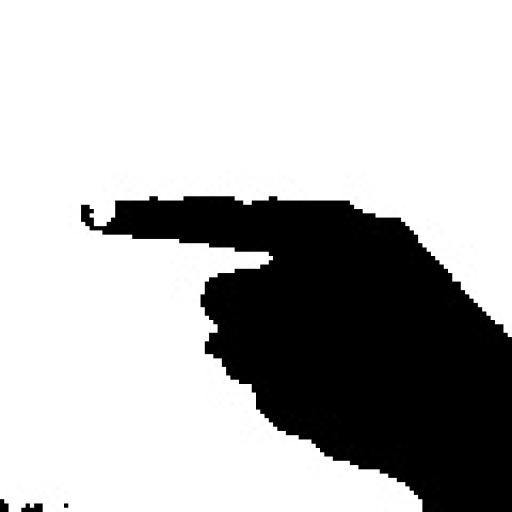index_left: (79, 192, 512, 404)
